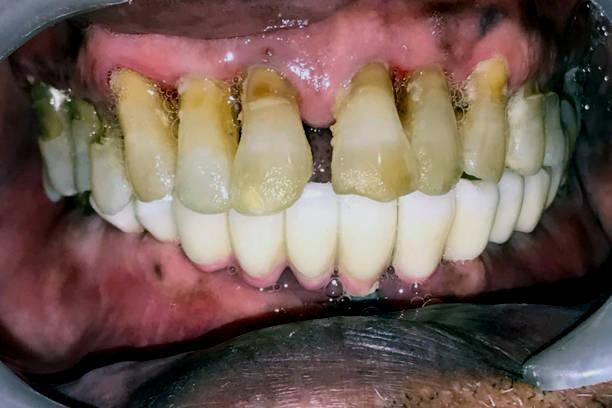Calculus: (317, 34, 428, 211), (229, 62, 316, 203), (159, 67, 244, 205), (106, 63, 192, 198)
Caries: (72, 78, 125, 139)
Discoloration: (443, 48, 526, 178), (407, 62, 475, 188), (503, 69, 553, 171)
